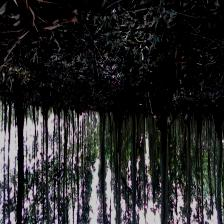trunk: (15, 81, 24, 194), (160, 118, 168, 215), (132, 111, 136, 199)
